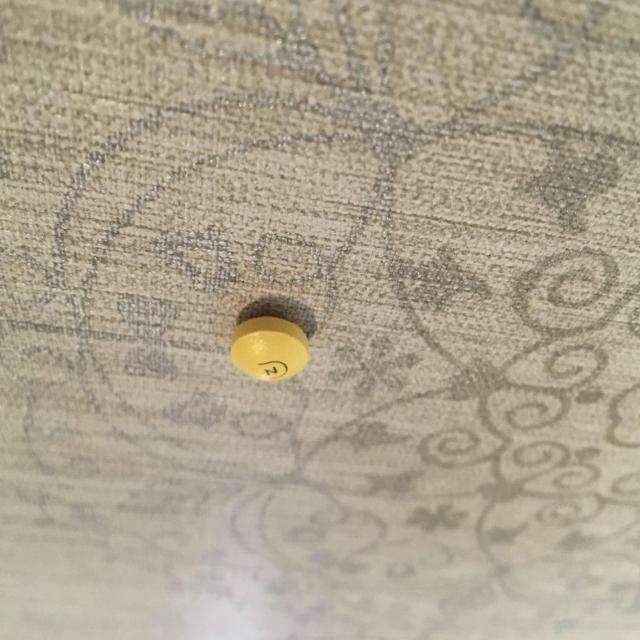pill: (230, 317, 308, 388)
